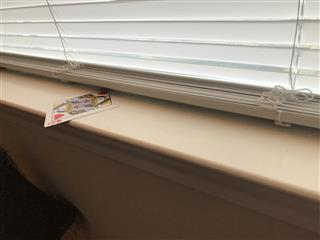QueenOfHearts: (43, 88, 119, 127)
